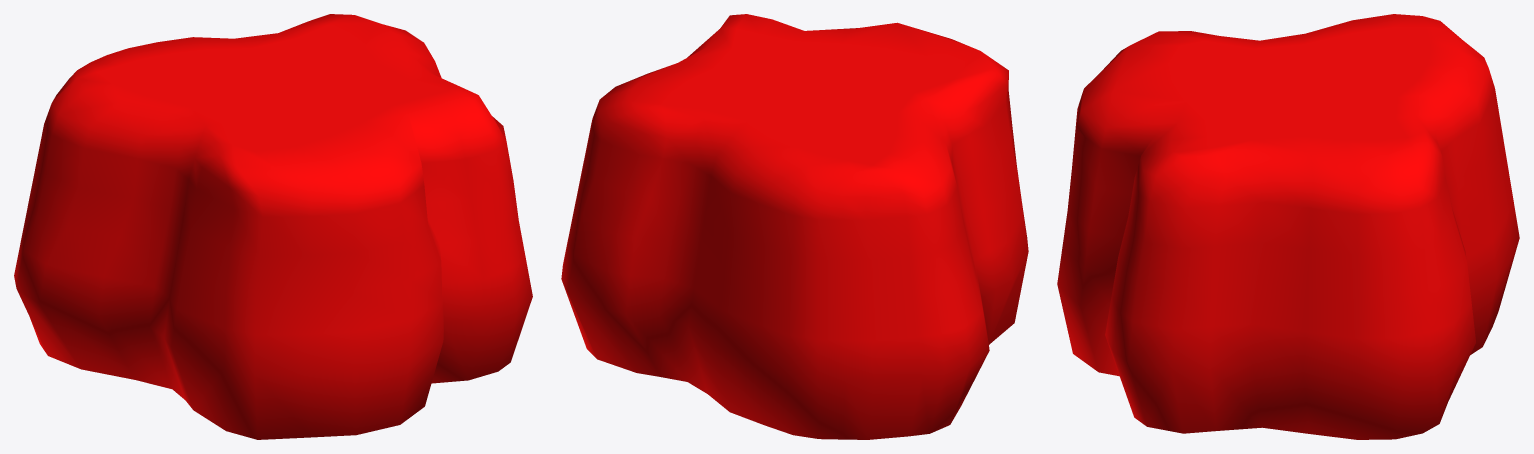
File: geology-landforms-dirtsod_v3.fbx
The picture shows the model from 3 angles, left to right: view 1: azimuth 30°, elevation 25°; view 2: azimuth 150°, elevation 25°; view 3: azimuth 270°, elevation 25°; orthographic projection. The views are drawn at different scales.
Visible parts, largest first — view 1: DirtSod_v3; view 2: DirtSod_v3; view 3: DirtSod_v3.
Boxes of the visible parts, x1,y1,x2,y2 form: DirtSod_v3: (14,14,532,439); DirtSod_v3: (561,14,1028,439); DirtSod_v3: (1057,14,1519,439).
Size of the model in its own units: 21.79 by 12.94 by 20.7.
